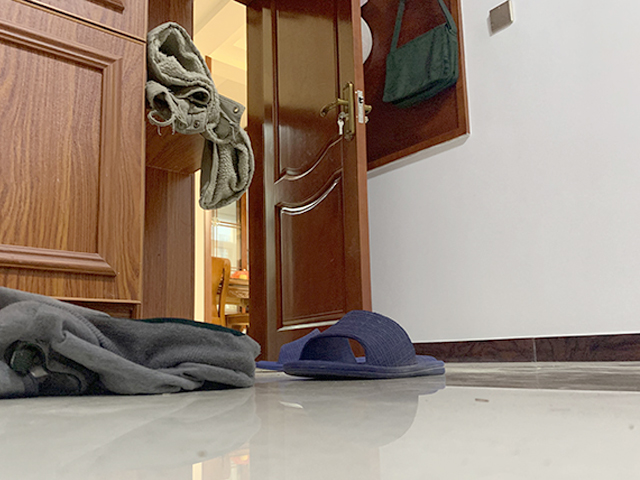cabinet: (1, 1, 210, 327)
slippers: (253, 309, 449, 380)
